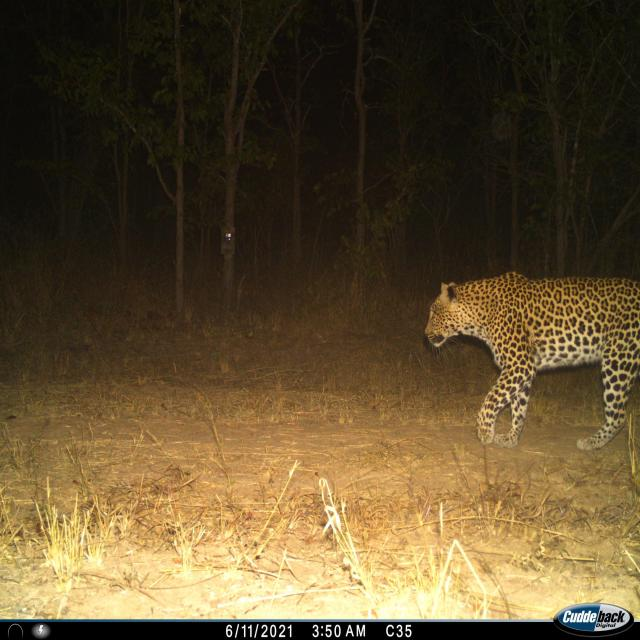Leopard: (417, 266, 640, 464)
